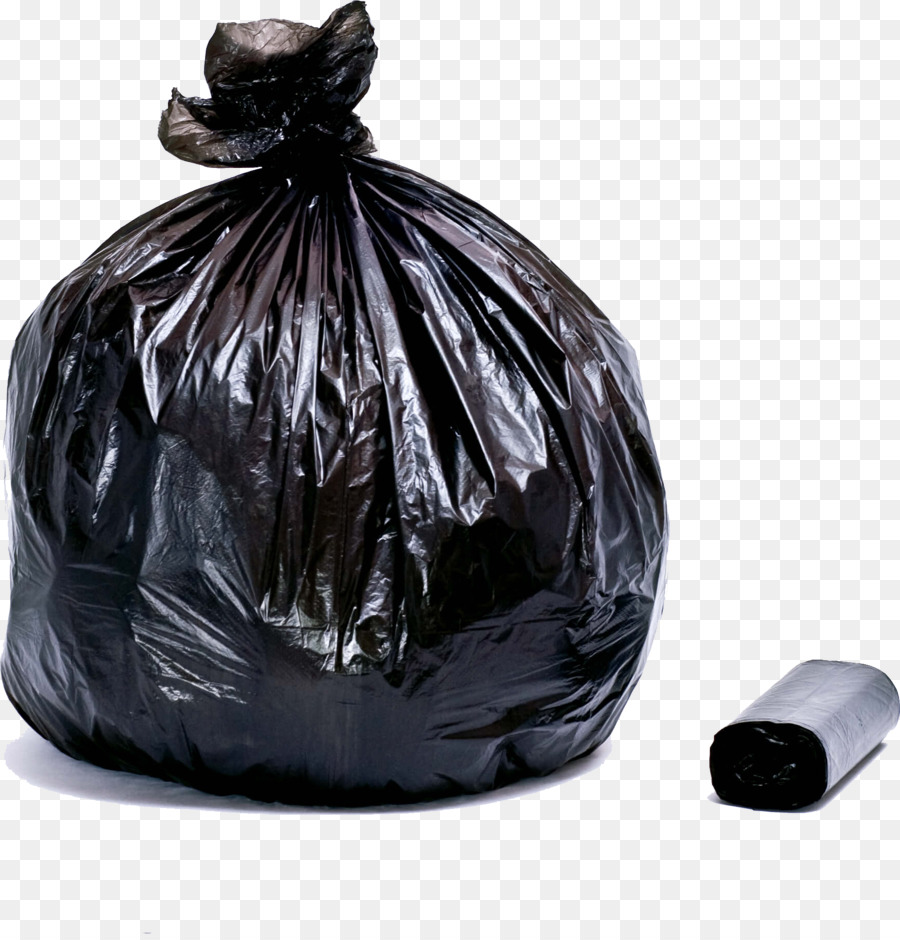plastic_bagwdw: (6, 11, 718, 891)
